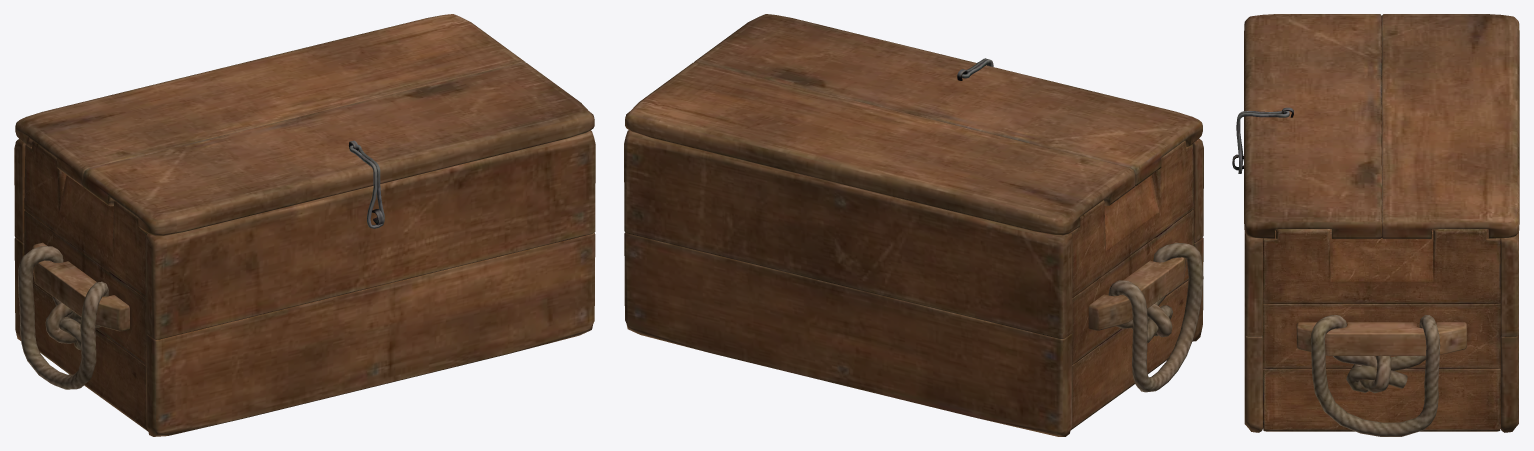
File: crate_low.glb
3 views of the same model, side by side, from view 1: azimuth 30°, elevation 25°; view 2: azimuth 150°, elevation 25°; view 3: azimuth 270°, elevation 25° (orthographic). The views are drawn at different scales.
Visible parts, largest first — view 1: wooden_crate_01, wooden_crate_01_lid, wooden_crate_01_latch; view 2: wooden_crate_01, wooden_crate_01_lid; view 3: wooden_crate_01_lid, wooden_crate_01, wooden_crate_01_latch.
Part boxes in pixels (box(x1,y1,x2,y2)): wooden_crate_01: box(14, 130, 595, 436); wooden_crate_01_lid: box(15, 14, 594, 236); wooden_crate_01_latch: box(349, 145, 384, 228); wooden_crate_01: box(624, 130, 1203, 436); wooden_crate_01_lid: box(625, 14, 1202, 235); wooden_crate_01_lid: box(1244, 14, 1519, 238); wooden_crate_01: box(1232, 154, 1518, 436); wooden_crate_01_latch: box(1236, 111, 1289, 173).
Bounding box in the file's own units: 0.8253 × 0.3496 × 0.409.
1 material, 1 textured.
